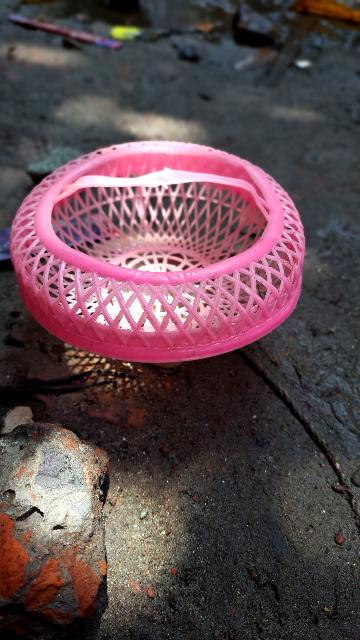hardplastic: (14, 126, 307, 370)
